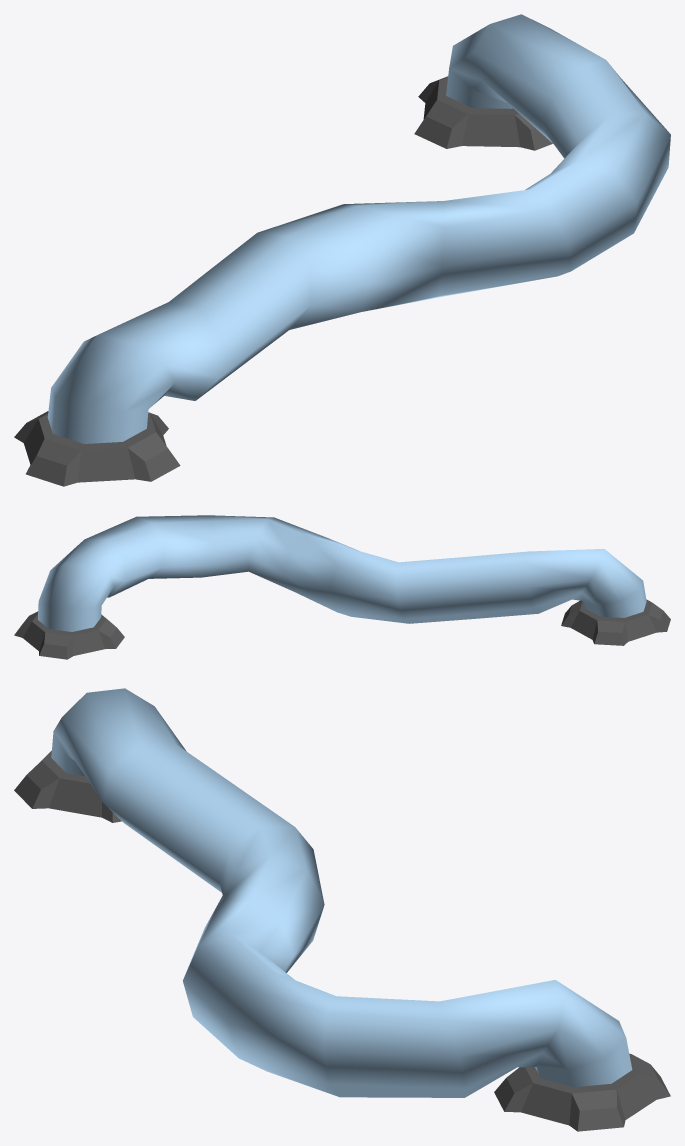
File: Hangar_hose_02.fbx
3 views of the same model, one above another, from view 1: azimuth 30°, elevation 25°; view 2: azimuth 150°, elevation 25°; view 3: azimuth 270°, elevation 25° (orthographic). The views are drawn at different scales.
Visible parts, largest first — view 1: Hose_02; view 2: Hose_02; view 3: Hose_02.
Part boxes in pixels (bbox=[...]): Hose_02: bbox=[14, 14, 670, 486]; Hose_02: bbox=[14, 515, 670, 659]; Hose_02: bbox=[14, 688, 670, 1131].
Size of the model in its own units: 184 by 25.31 by 133.
